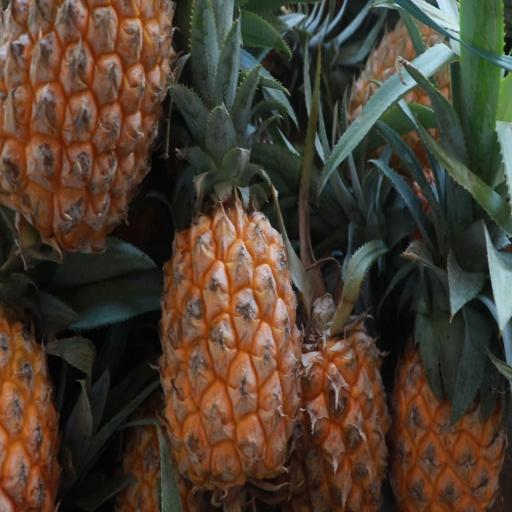Pineapple - v8 v1: (157, 132, 307, 493), (2, 0, 177, 265), (387, 187, 510, 512), (275, 252, 394, 512)
